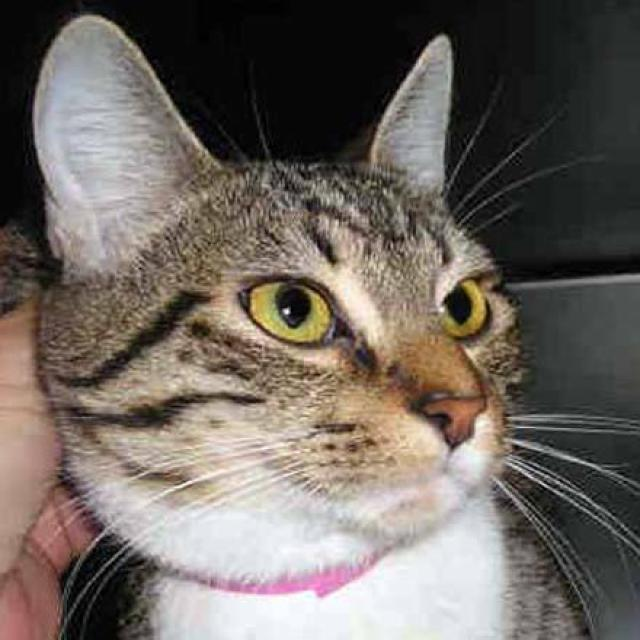cat-eye-normal: (227, 262, 358, 354), (426, 262, 498, 346)
